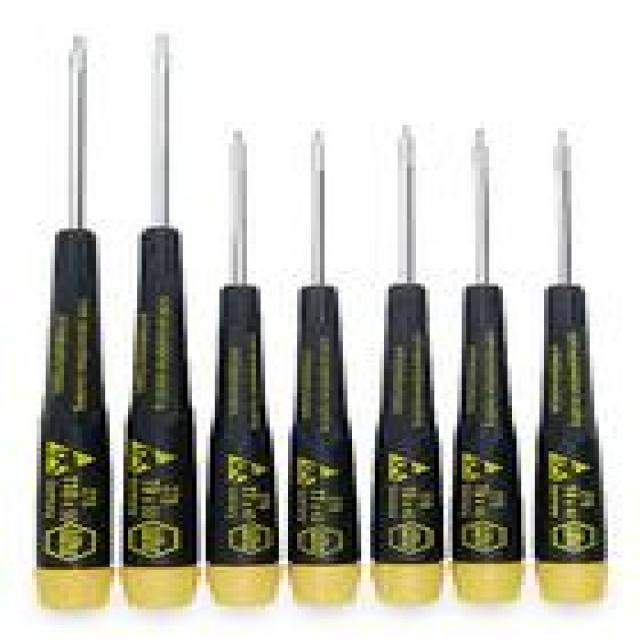screwdriver: (31, 29, 118, 616), (118, 26, 202, 612), (196, 124, 286, 610), (444, 116, 528, 616), (279, 122, 363, 614), (367, 116, 449, 614), (530, 126, 612, 610)
